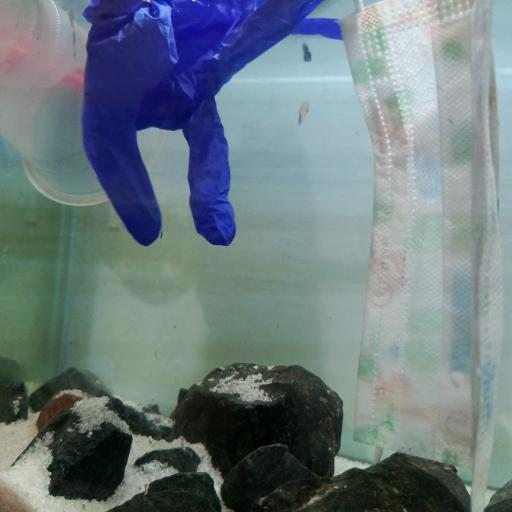glove: (83, 0, 343, 245)
mask: (341, 0, 502, 509)
plastic_cup: (0, 0, 136, 208)
plastic_straw: (0, 24, 82, 88)
